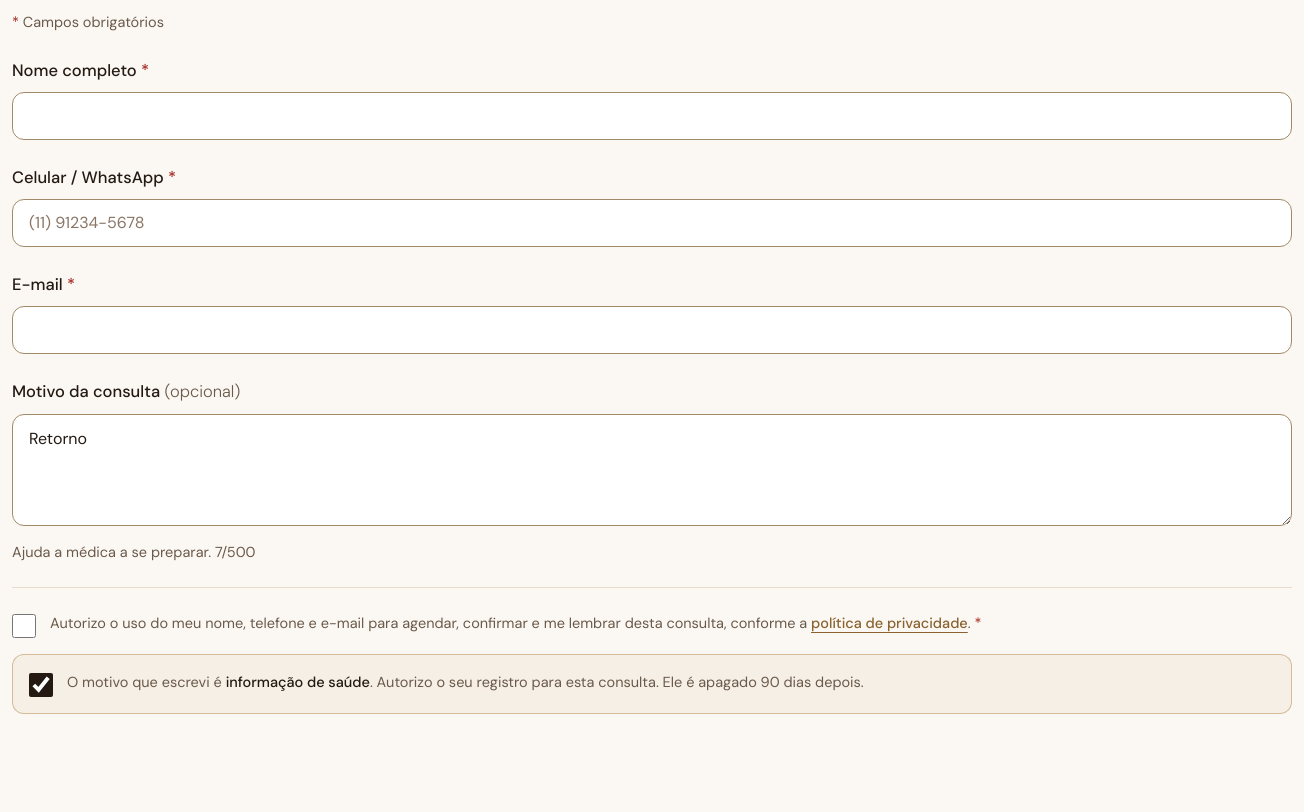
Test: <FormularioDados> › apagar o motivo some com o consentimento de saúde (e o desmarca)
Check: the checkbox labelled "O motivo que escrevi é" is checked, box [29,672,53,696]
Clear the text box labelled "Motivo da consulta (opcional)" at (652, 470), box [12,414,1292,526]
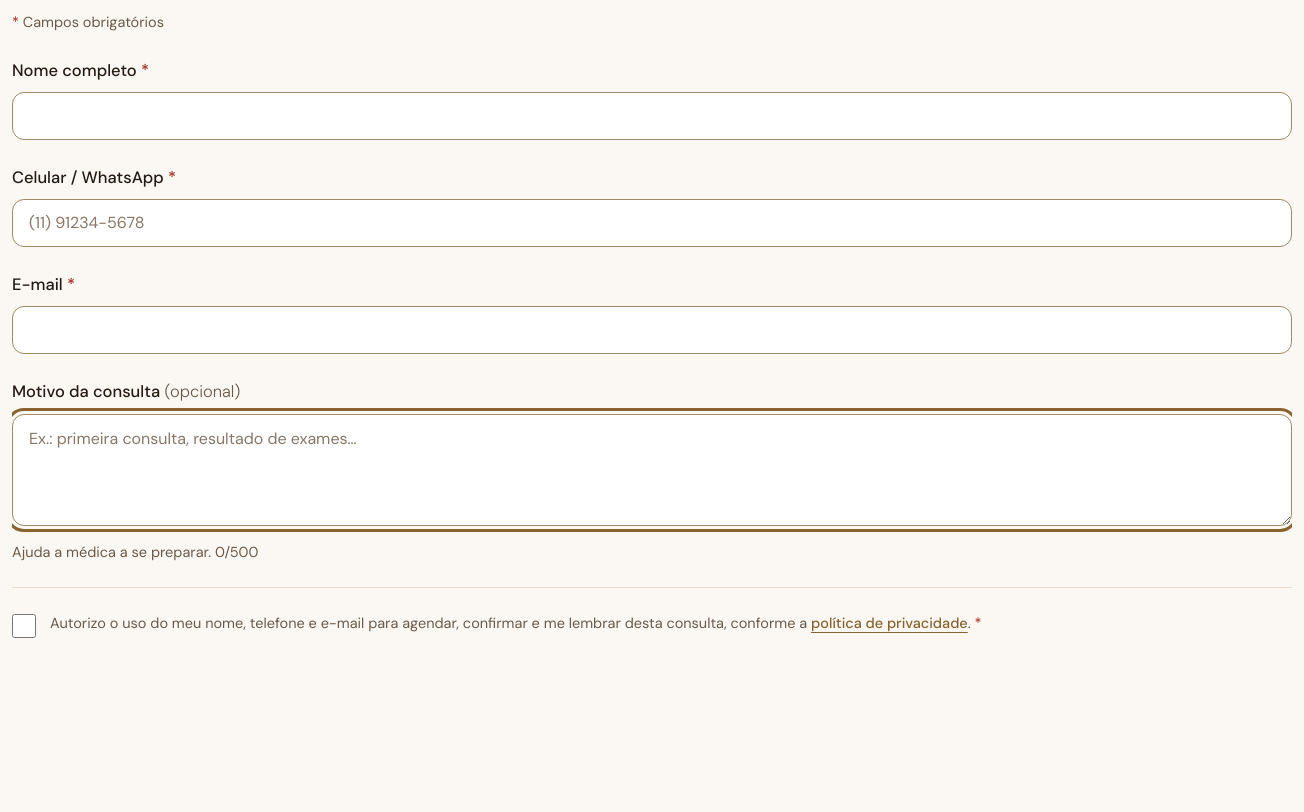
Check: the text "informação de saúde" is gone
